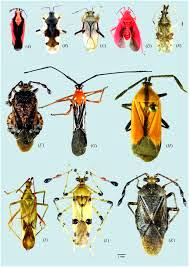Helopeltis-insect: (121, 75, 173, 158), (5, 74, 50, 154), (132, 174, 177, 254), (65, 76, 105, 156), (64, 172, 104, 249), (8, 180, 50, 250), (113, 2, 142, 54), (6, 4, 30, 54), (154, 8, 176, 56), (42, 4, 62, 54), (78, 5, 98, 51)
